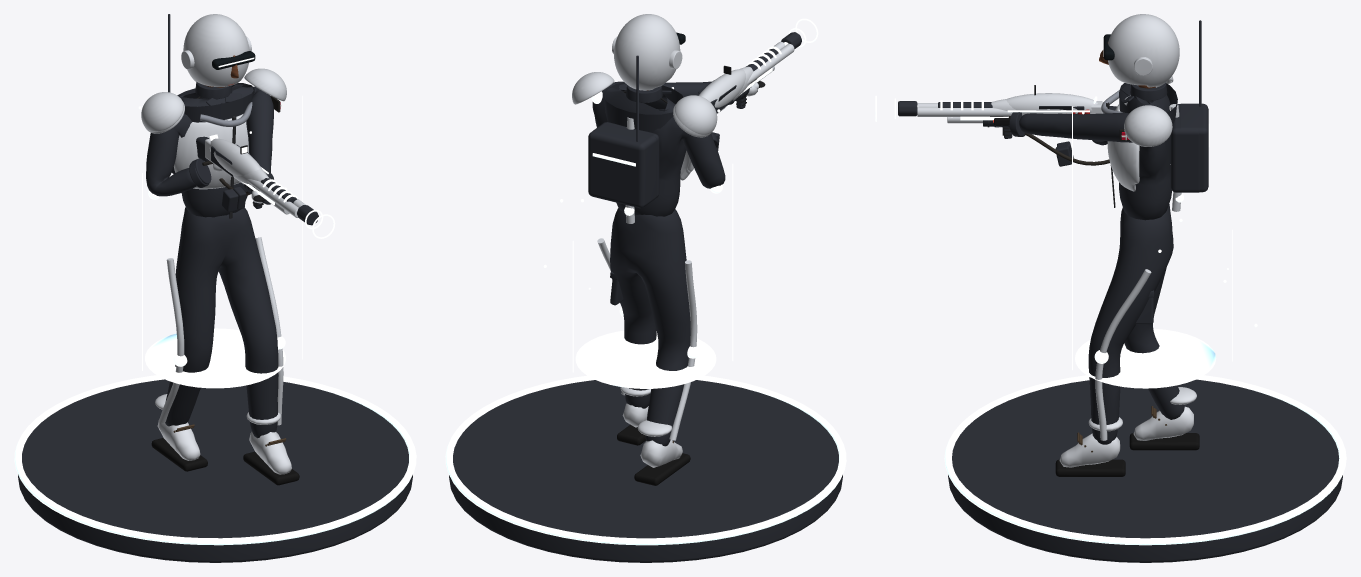
File: hagl_krom.glb
3 renders of one model, left to right at view 1: azimuth 30°, elevation 25°; view 2: azimuth 150°, elevation 25°; view 3: azimuth 270°, elevation 25°, orthographic.
Visible parts, largest first — view 1: fod_net, menneske_net, op4.001_net, hoved_net, op2.001_net, op4_net, op3.001_net, vaaben_net, op2_net, op4.002_net, op3_net; view 2: fod_net, menneske_net, op4_net, op4.001_net, hoved_net, op3.001_net, op2_net, op2.001_net, vaaben_net, op4.002_net, op3_net; view 3: fod_net, menneske_net, op4.001_net, hoved_net, op2.001_net, op4_net, ned4_net, op2_net, vaaben_net, op3_net.
Boxes of the visible parts, box(x1,y1,x2,y2) form: fod_net: box(14, 375, 416, 562); menneske_net: box(146, 81, 299, 485); op4.001_net: box(138, 95, 302, 388); hoved_net: box(181, 14, 255, 87); op2.001_net: box(174, 68, 286, 443); op4_net: box(148, 190, 285, 425); op3.001_net: box(141, 14, 183, 131); vaaben_net: box(196, 136, 305, 217); op2_net: box(209, 138, 268, 208); op4.002_net: box(221, 179, 335, 238); op3_net: box(209, 134, 318, 225); fod_net: box(445, 375, 846, 562); menneske_net: box(592, 81, 765, 485); op4_net: box(588, 91, 722, 440); op4.001_net: box(543, 87, 733, 388); hoved_net: box(612, 14, 685, 90); op3.001_net: box(636, 55, 717, 141); op2_net: box(698, 65, 746, 108); op2.001_net: box(572, 72, 693, 180); vaaben_net: box(698, 41, 794, 113); op4.002_net: box(714, 18, 818, 150); op3_net: box(710, 32, 801, 112); fod_net: box(944, 375, 1346, 562); menneske_net: box(994, 82, 1199, 476); op4.001_net: box(1072, 106, 1257, 388); hoved_net: box(1099, 14, 1179, 87); op2.001_net: box(1077, 89, 1172, 442); op4_net: box(1094, 103, 1209, 440); ned4_net: box(1170, 104, 1200, 192); op2_net: box(993, 85, 1097, 138); vaaben_net: box(917, 99, 1116, 127); op3_net: box(898, 96, 1097, 116).
Size of the model in its own units: 1.94 by 2.47 by 2.27.
